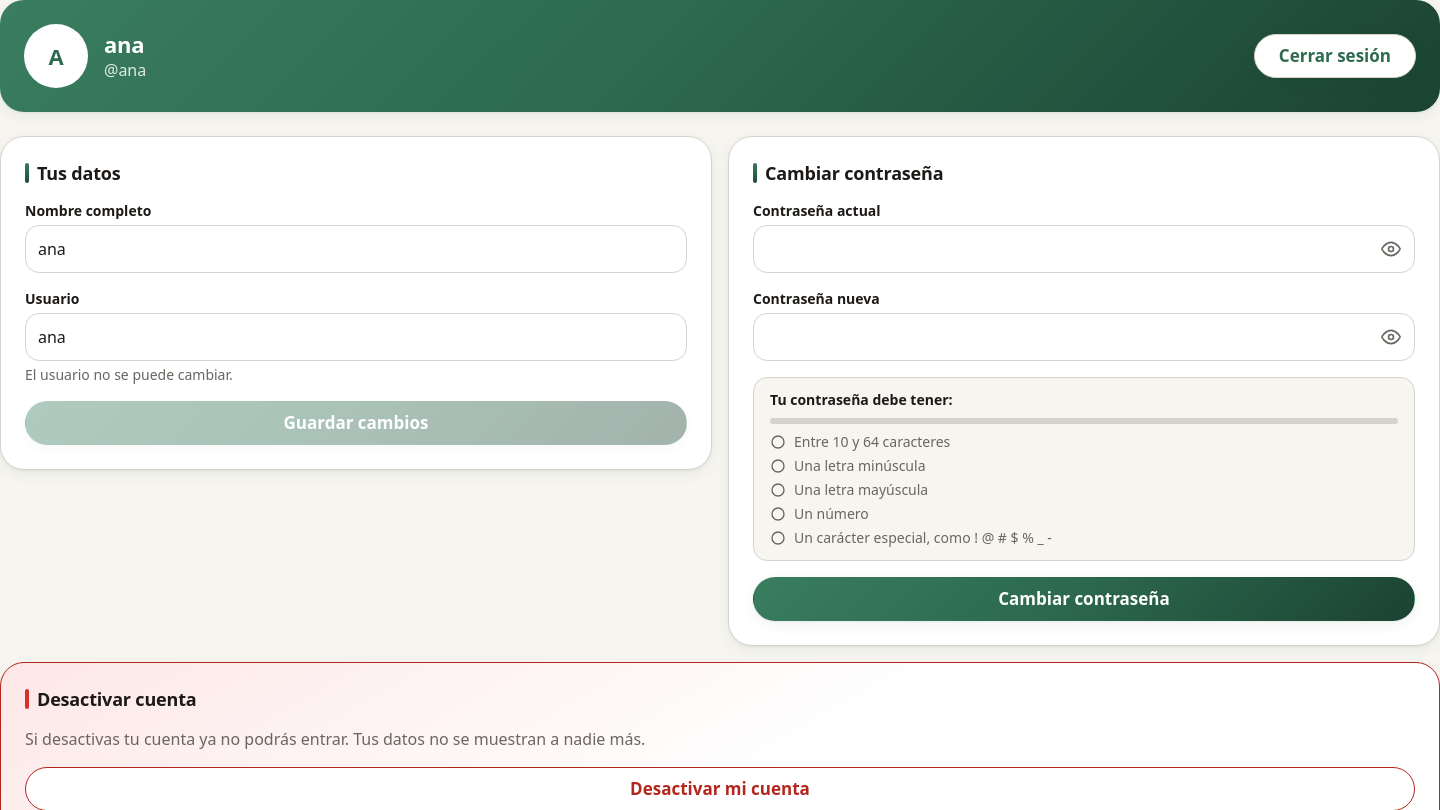
Test: Account › saves a new name only when it changed and is not empty
The width and height of the screenshot is (1440, 810).
Check: the button "Guardar cambios" is disabled, box [25, 401, 687, 445]
Clear the field labelled "Nombre completo" at (356, 249), box [26, 226, 686, 272]
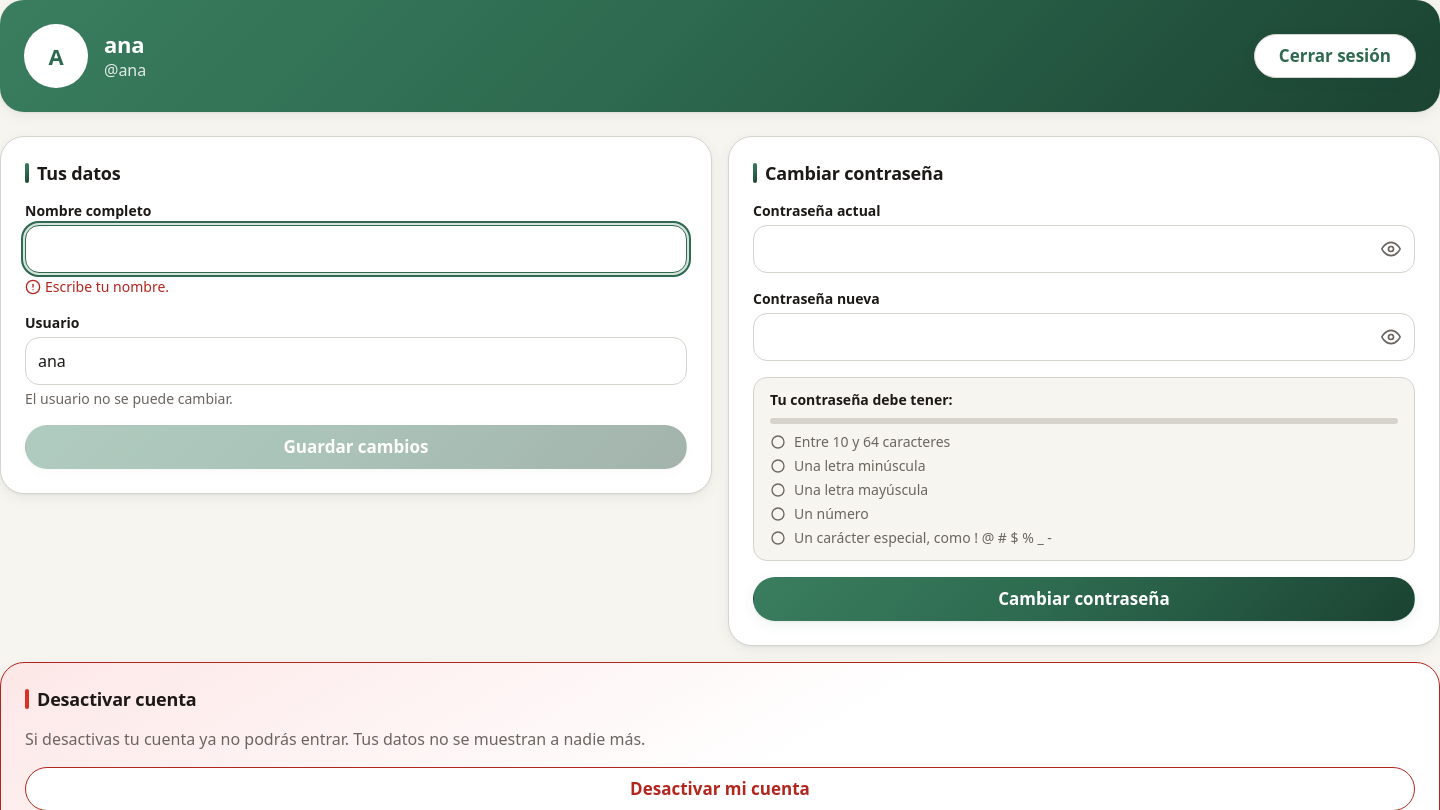
Check: the button "Guardar cambios" is disabled, box [25, 425, 687, 469]
Check: the text "Escribe tu nombre." is shown, box [25, 277, 169, 296]
Type "Ana Ruiz" into the field labelled "Nombre completo".
click(356, 249); type("Ana Ruiz")  # box [26, 226, 686, 272]
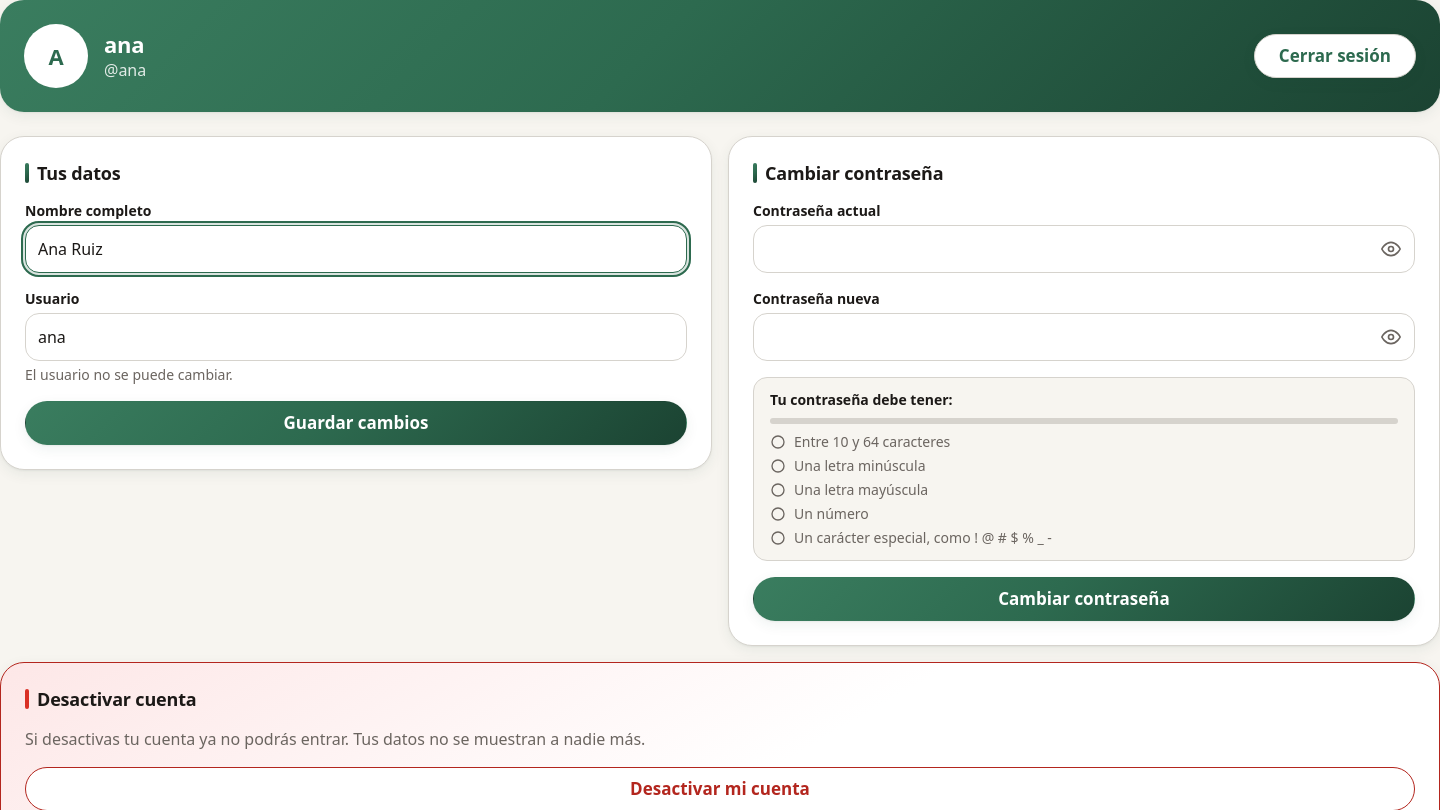
Click the button "Guardar cambios".
click(356, 423)  # box [25, 401, 687, 445]
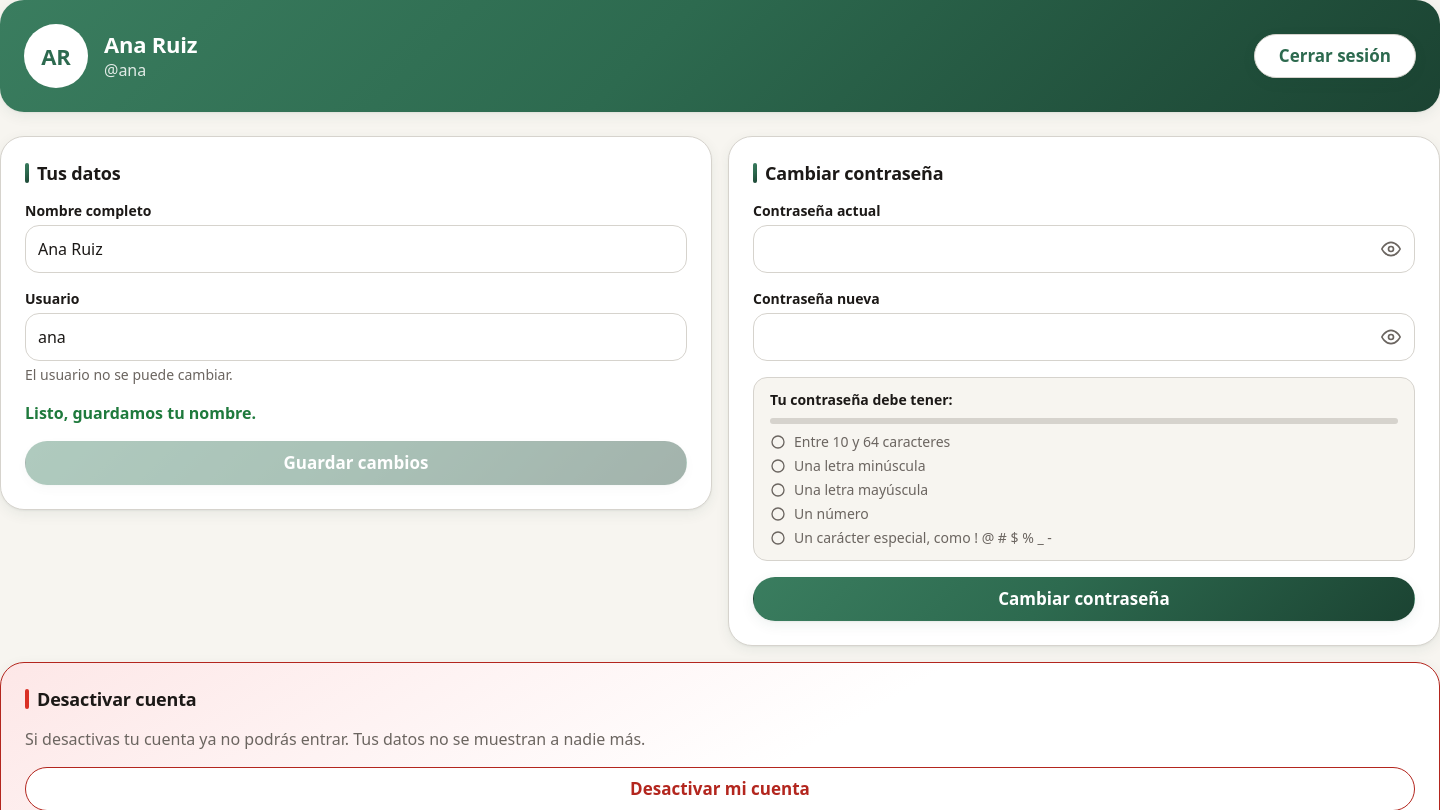
Check: the text "Listo, guardamos tu nombre." is shown, box [25, 402, 256, 424]
